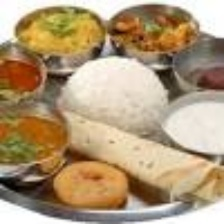rice: (61, 55, 166, 131)
